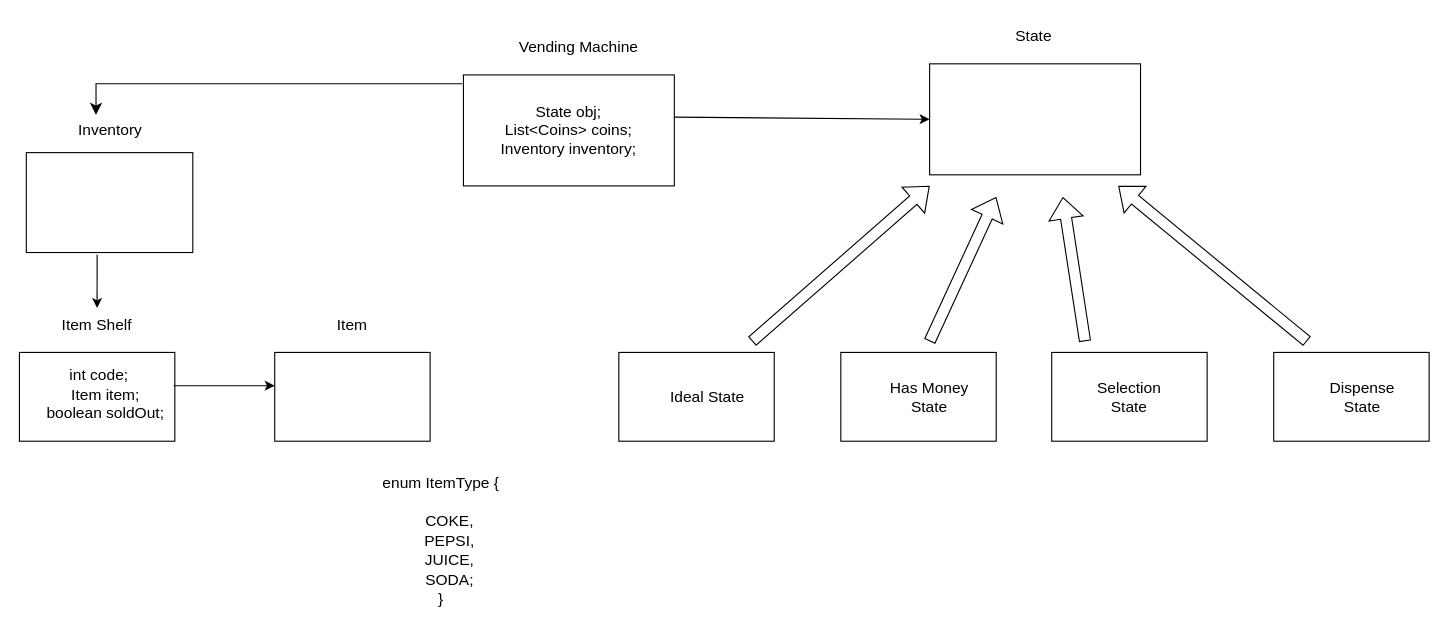
The diagram is 1449 pixels wide and 640 high, and some of its shapes have lost their labels. Here are the shapes that lost their labels. From the top down, the box of each, then its label:
(929, 63, 1141, 175): // All Operations declared here for diffrent states
(25, 152, 193, 253): ItemShelf[] inventory
(274, 351, 430, 441): ItemType type; int price
